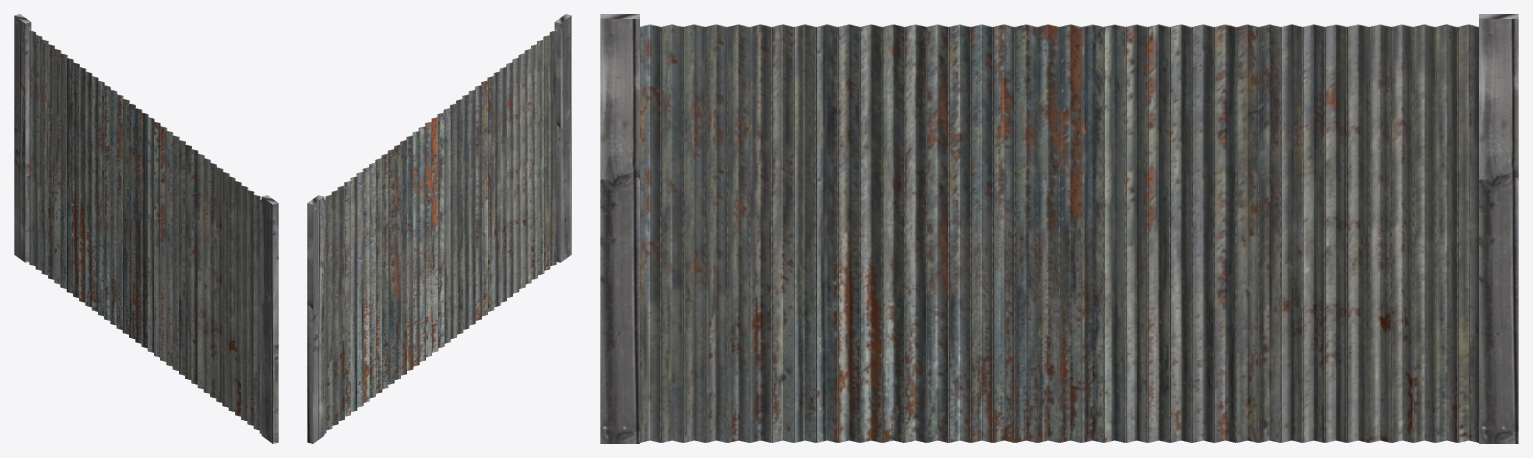
Rendered from corrugated.fbx.
The picture shows the model from 3 angles, left to right: view 1: azimuth 30°, elevation 25°; view 2: azimuth 150°, elevation 25°; view 3: azimuth 270°, elevation 25°; orthographic projection. The views are drawn at different scales.
Visible parts, largest first — view 1: wood_2, corrugated_001, corrugated; view 2: wood_2, corrugated, corrugated_001; view 3: wood_2, corrugated_001, corrugated.
Part boxes in pixels (x1,y1,x2,y2): wood_2: (29, 28, 261, 433); corrugated_001: (261, 195, 278, 443); corrugated: (14, 14, 31, 262); wood_2: (324, 28, 556, 433); corrugated: (307, 195, 324, 443); corrugated_001: (554, 14, 571, 262); wood_2: (640, 24, 1478, 442); corrugated_001: (600, 14, 639, 443); corrugated: (1479, 14, 1518, 443).
Size of the model in its own units: 0.0365 by 1.4 by 2.75.
